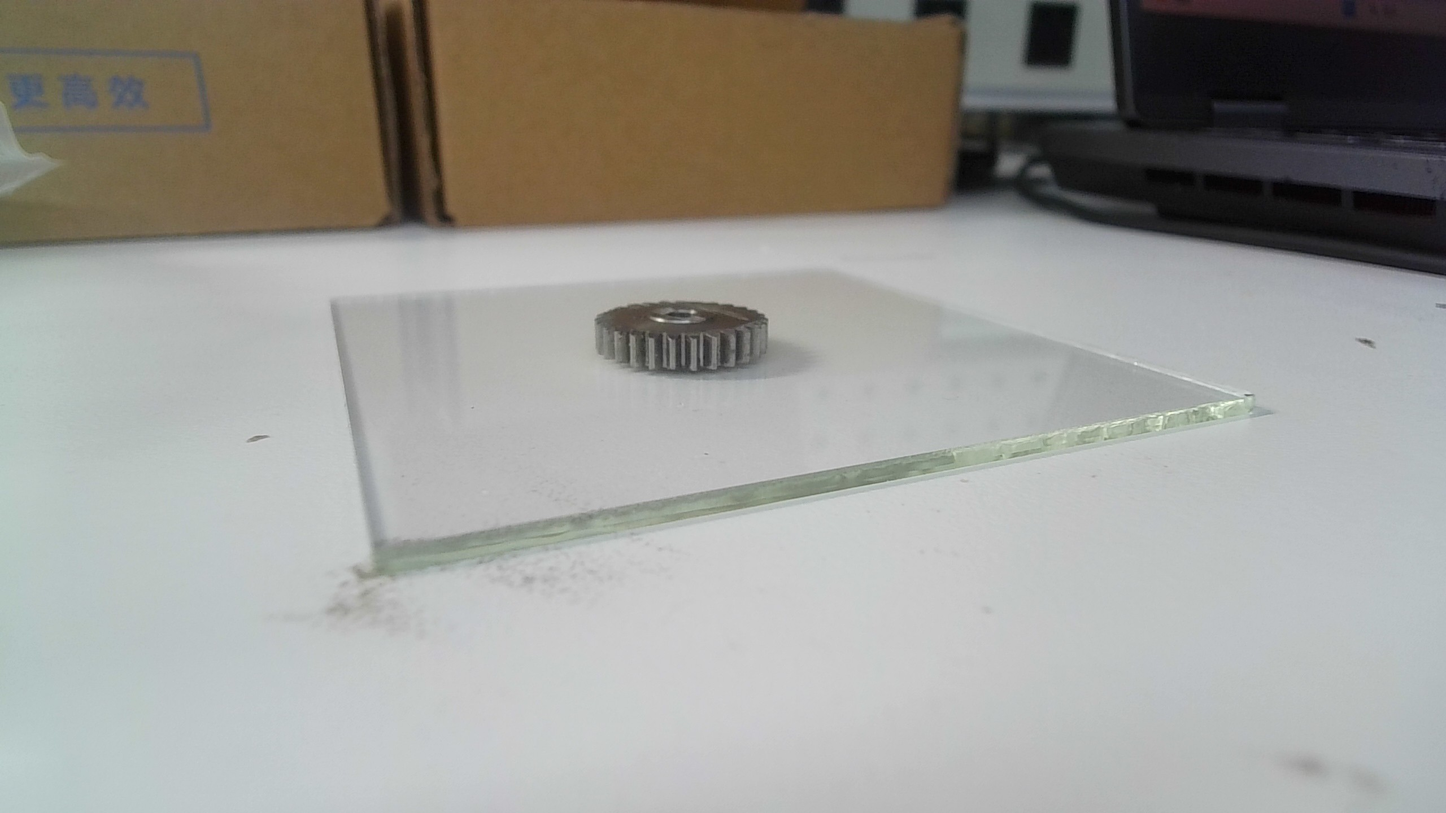gear: (593, 298, 770, 375)
